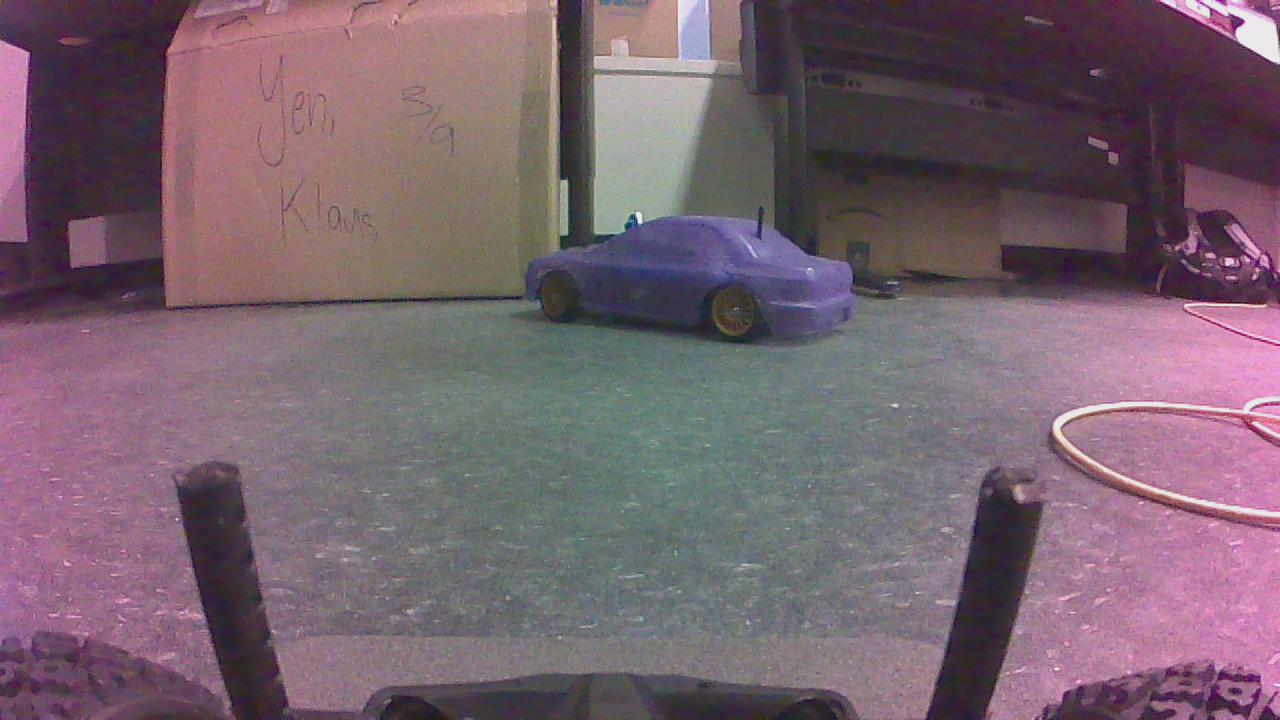opponent: (522, 214, 859, 348)
